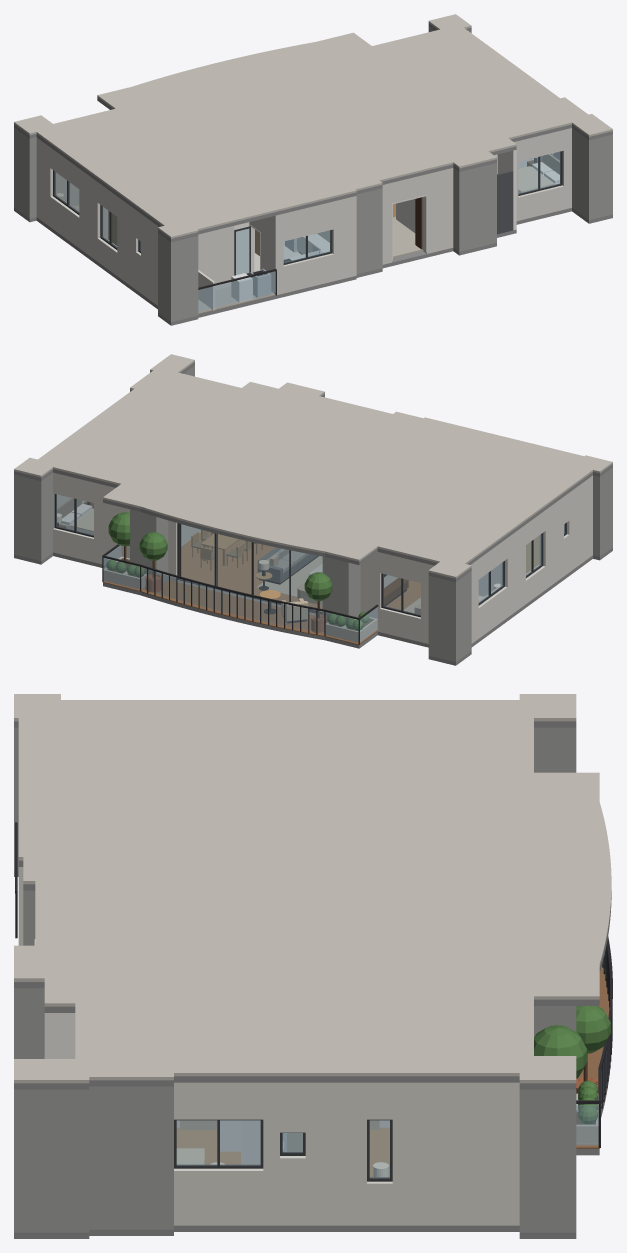
Rendered from DexinTaiji_B_3D.dae.
3 renders of one model, top to bottom at view 1: azimuth 30°, elevation 25°; view 2: azimuth 150°, elevation 25°; view 3: azimuth 270°, elevation 25°, orthographic. The views are drawn at different scales.
Parts seen in each view (by area): view 1: 上層樓板 (版底+3,270／上層FL+3,500) (×2), 外牆 EW1, 外牆 ESK, 外牆 ESE, 結構柱 C7, 結構柱 C8, 結構柱 C5, 外牆 ESB, 本層結構樓板, 結構柱 C6, 外牆 H14, 結構柱 C1 (+18 smaller); view 2: 上層樓板 (版底+3,270／上層FL+3,500) (×2), 外牆 EW1, 景觀陽台玻璃欄杆 (×2), D12 客廳落地拉門 (×2), 外牆 EN1, 結構柱 C1, 外牆 EN3, 結構柱 C4, 地坪-景觀陽台, 本層結構樓板, 地坪-餐廳, 結構柱 C2 (+16 smaller); view 3: 上層樓板 (版底+3,270／上層FL+3,500) (×2), 外牆 EE1, 結構柱 C9, 結構柱 C8, 結構柱 C4, W10 次臥二東窗 (×2), 本層結構樓板, 景觀陽台玻璃欄杆 (×2), 結構柱 C7, 結構柱 C1, 陽台喬木-東花台, 隔間牆 I16 (+9 smaller).
Part boxes in pixels (box(x1,y1,x2,y2)): 上層樓板 (版底+3,270／上層FL+3,500) (×2): box(14, 14, 612, 242); 外牆 EW1: box(36, 137, 158, 305); 外牆 ESK: box(279, 196, 356, 294); 外牆 ESE: box(382, 168, 453, 264); 結構柱 C7: box(453, 163, 496, 251); 結構柱 C8: box(572, 128, 612, 220); 結構柱 C5: box(158, 233, 198, 322); 外牆 ESB: box(514, 128, 571, 220); 本層結構樓板: box(14, 207, 612, 325); 結構柱 C6: box(356, 188, 382, 274); 外牆 H14: box(198, 226, 234, 289); 結構柱 C1: box(14, 127, 36, 218); 上層樓板 (版底+3,270／上層FL+3,500) (×2): box(14, 354, 612, 582); 外牆 EW1: box(471, 475, 592, 643); 景觀陽台玻璃欄杆 (×2): box(102, 544, 378, 644); D12 客廳落地拉門 (×2): box(177, 523, 322, 614); 外牆 EN1: box(360, 552, 434, 643); 結構柱 C1: box(428, 571, 471, 662); 外牆 EN3: box(53, 472, 129, 564); 結構柱 C4: box(14, 473, 54, 560); 地坪-景觀陽台: box(103, 580, 377, 644); 本層結構樓板: box(14, 547, 612, 665); 地坪-餐廳: box(181, 532, 274, 588); 結構柱 C2: box(322, 556, 360, 622); 上層樓板 (版底+3,270／上層FL+3,500) (×2): box(14, 694, 611, 1089); 外牆 EE1: box(174, 1082, 519, 1225); 結構柱 C9: box(89, 1086, 173, 1229); 結構柱 C8: box(14, 1089, 89, 1232); 結構柱 C4: box(519, 1089, 576, 1232); W10 次臥二東窗 (×2): box(174, 1119, 263, 1168); 本層結構樓板: box(14, 870, 610, 1238); 景觀陽台玻璃欄杆 (×2): box(576, 936, 612, 1148); 結構柱 C7: box(14, 988, 44, 1058); 結構柱 C1: box(534, 727, 576, 772); 陽台喬木-東花台: box(534, 1025, 587, 1078); 隔間牆 I16: box(44, 1013, 75, 1058).
Bounding box in the file's own units: 19.4 × 12.73 × 3.73.
